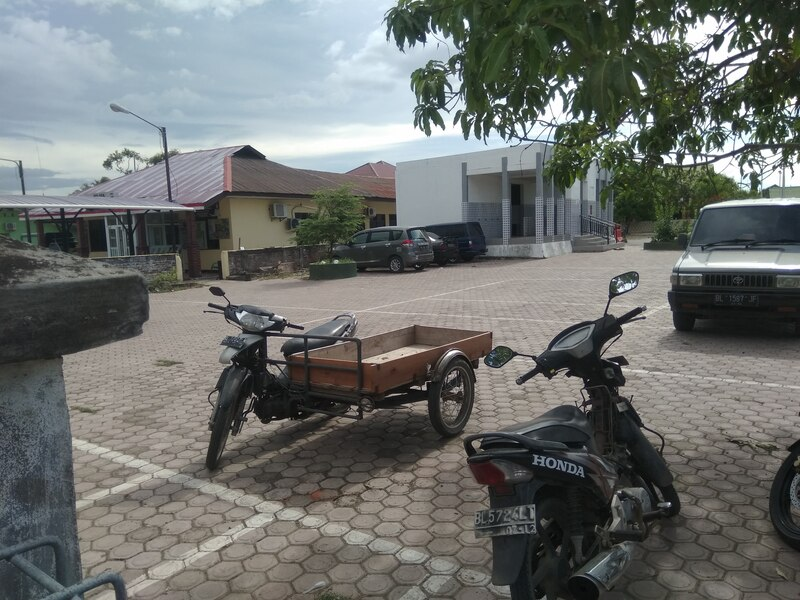becak barang: (199, 278, 499, 475)
